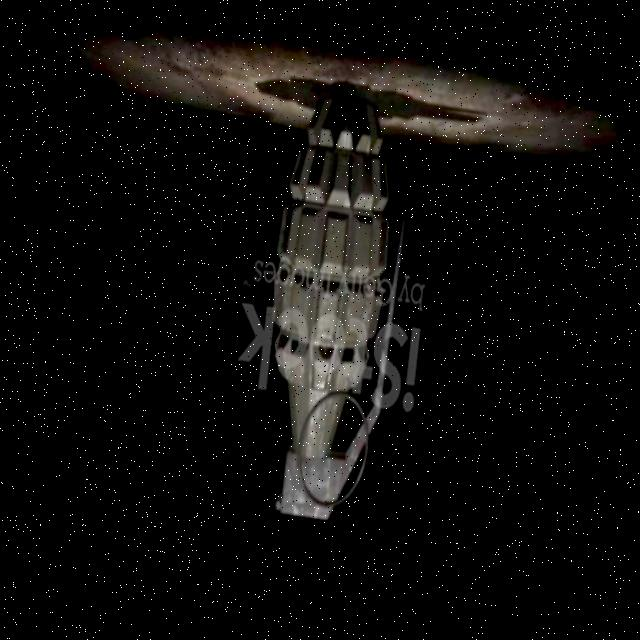grenade: (181, 60, 485, 554)
